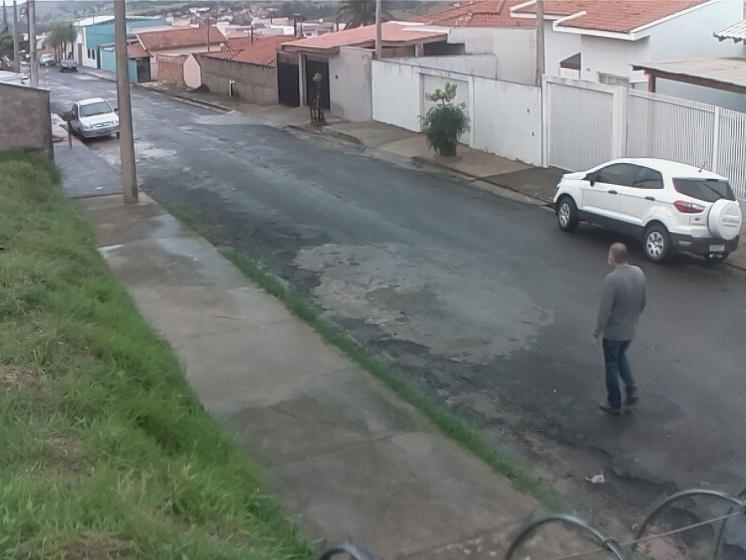person: (591, 241, 649, 415)
